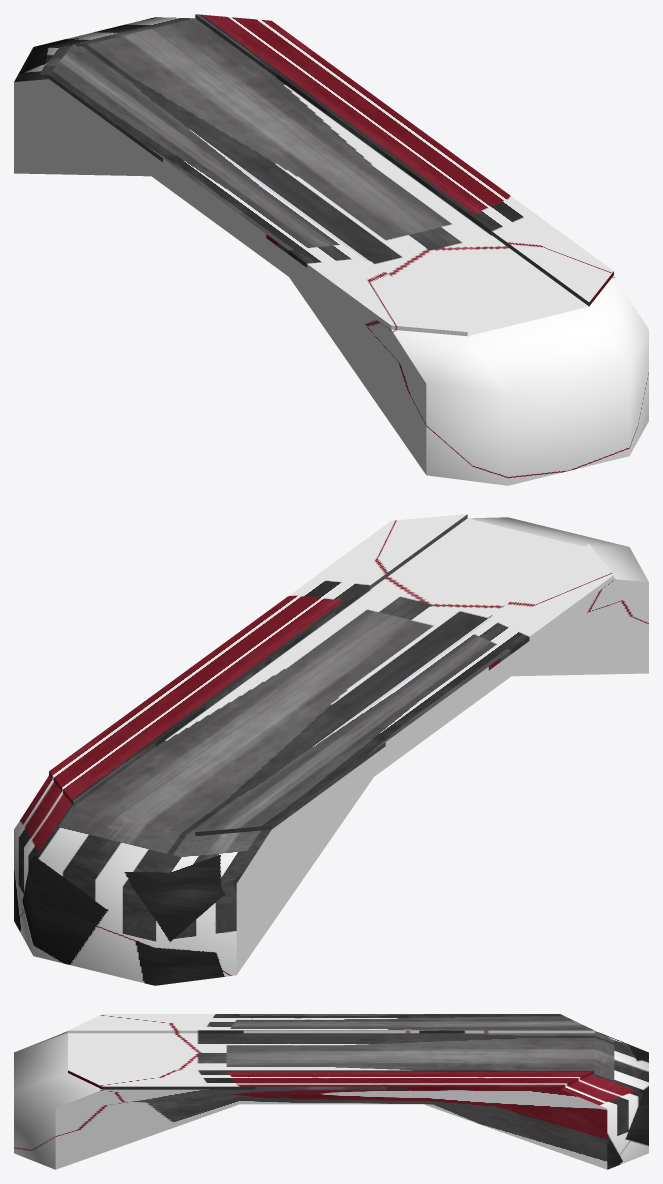
File: Bridge.obj
3 renders of one model, top to bottom at view 1: azimuth 30°, elevation 25°; view 2: azimuth 150°, elevation 25°; view 3: azimuth 270°, elevation 25°, orthographic. The views are drawn at different scales.
Parts seen in each view (by area): view 1: pCube9; view 2: pCube9; view 3: pCube9.
Part boxes in pixels (<box>): pCube9: <box>14,14,648,485</box>; pCube9: <box>14,514,648,985</box>; pCube9: <box>14,1014,648,1169</box>.
Bounding box in the file's own units: 2.48 × 1.32 × 9.14.
1 material, 1 textured.
